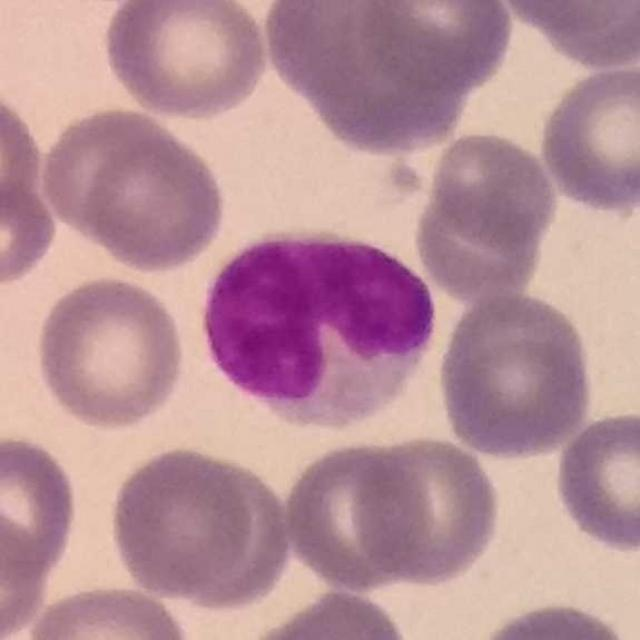mono: (205, 221, 440, 436)
